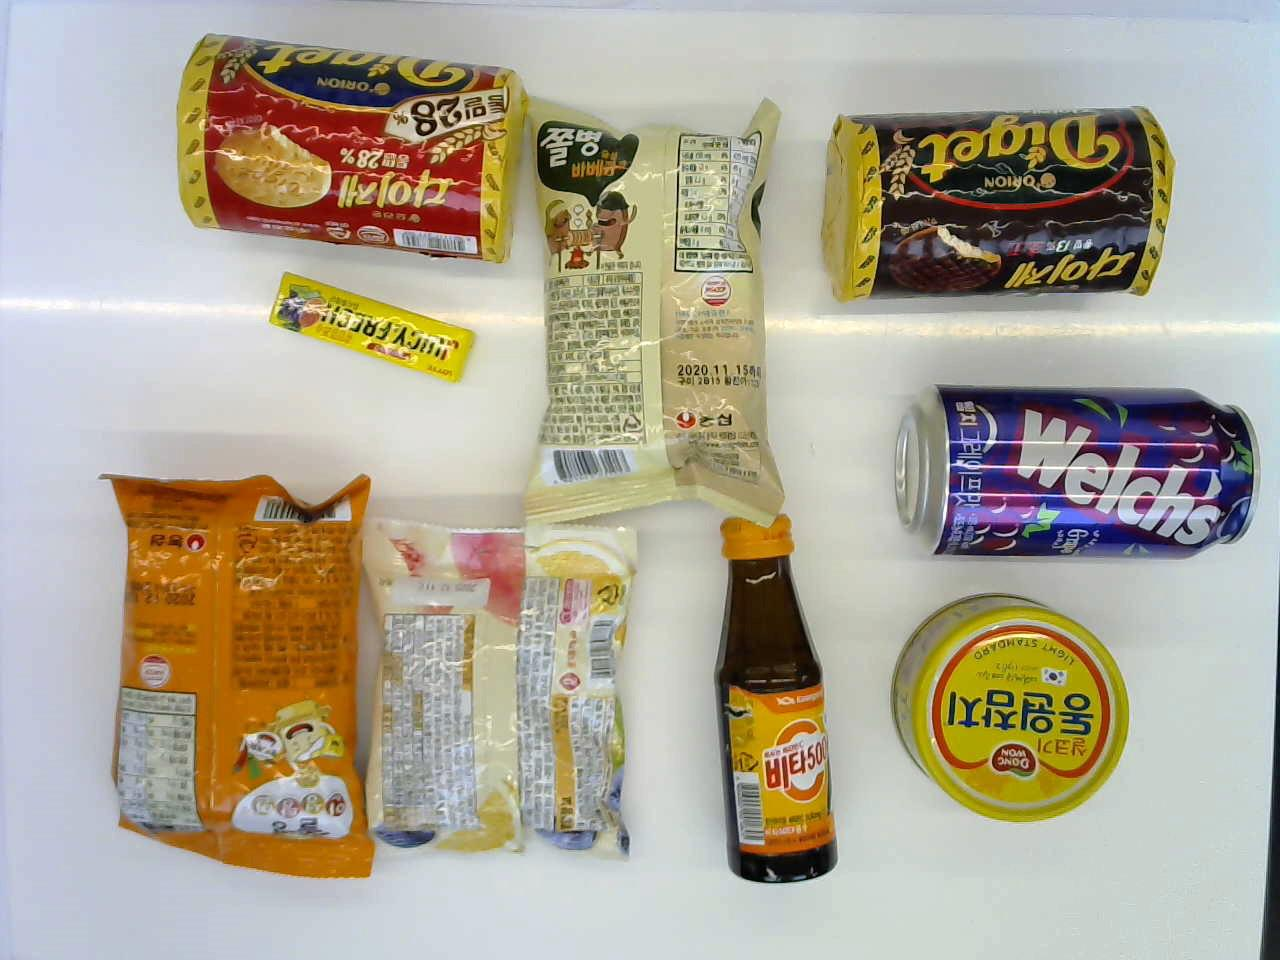diget_choco: (812, 113, 1175, 312)
diget_ori: (172, 32, 529, 270)
gumi_gumi: (366, 503, 644, 871)
jjolbyung_noodle: (99, 458, 375, 895)
jjolbyung_ori: (516, 88, 777, 510)
juicyfresh: (270, 274, 467, 388)
tuna: (885, 588, 1129, 836)
vita500: (695, 515, 845, 882)
welchs: (893, 370, 1256, 569)
